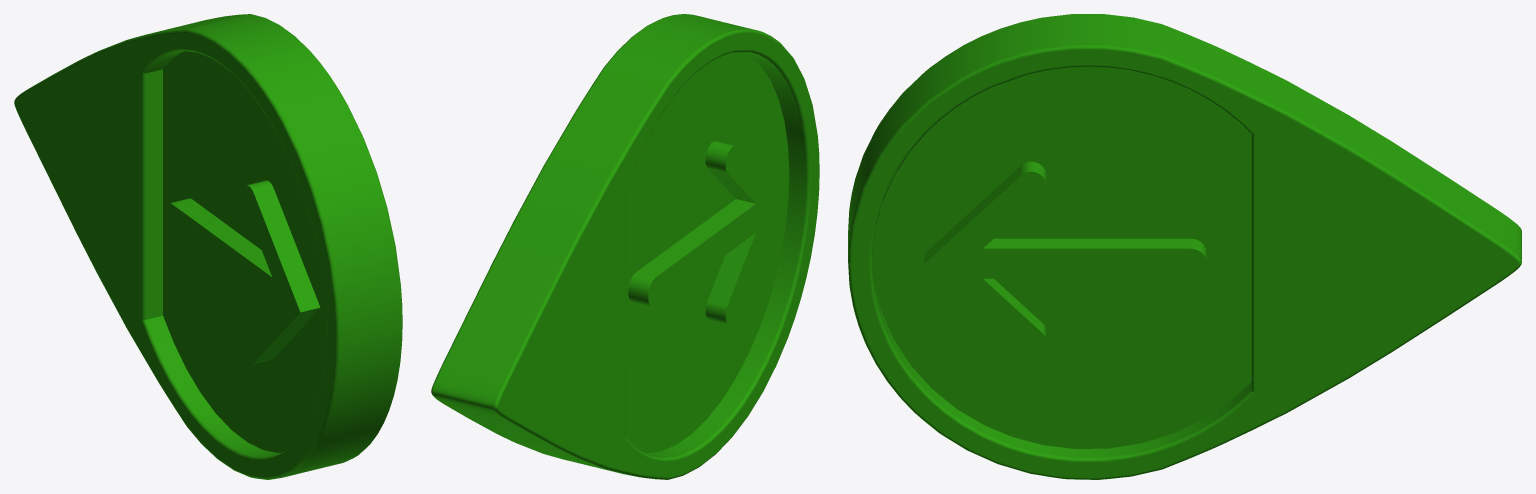
The model's file is ICONO 5.fbx.
3 renders of one model, left to right at view 1: azimuth 30°, elevation 25°; view 2: azimuth 150°, elevation 25°; view 3: azimuth 270°, elevation 25°, orthographic. The views are drawn at different scales.
Visible parts, largest first — view 1: Icono 2; view 2: Icono 2; view 3: Icono 2.
Part boxes in pixels (x1,y1,x2,y2): Icono 2: [14, 14, 402, 479]; Icono 2: [431, 14, 819, 479]; Icono 2: [848, 14, 1521, 479].
Size of the model in its own units: 112 by 675 by 947.
